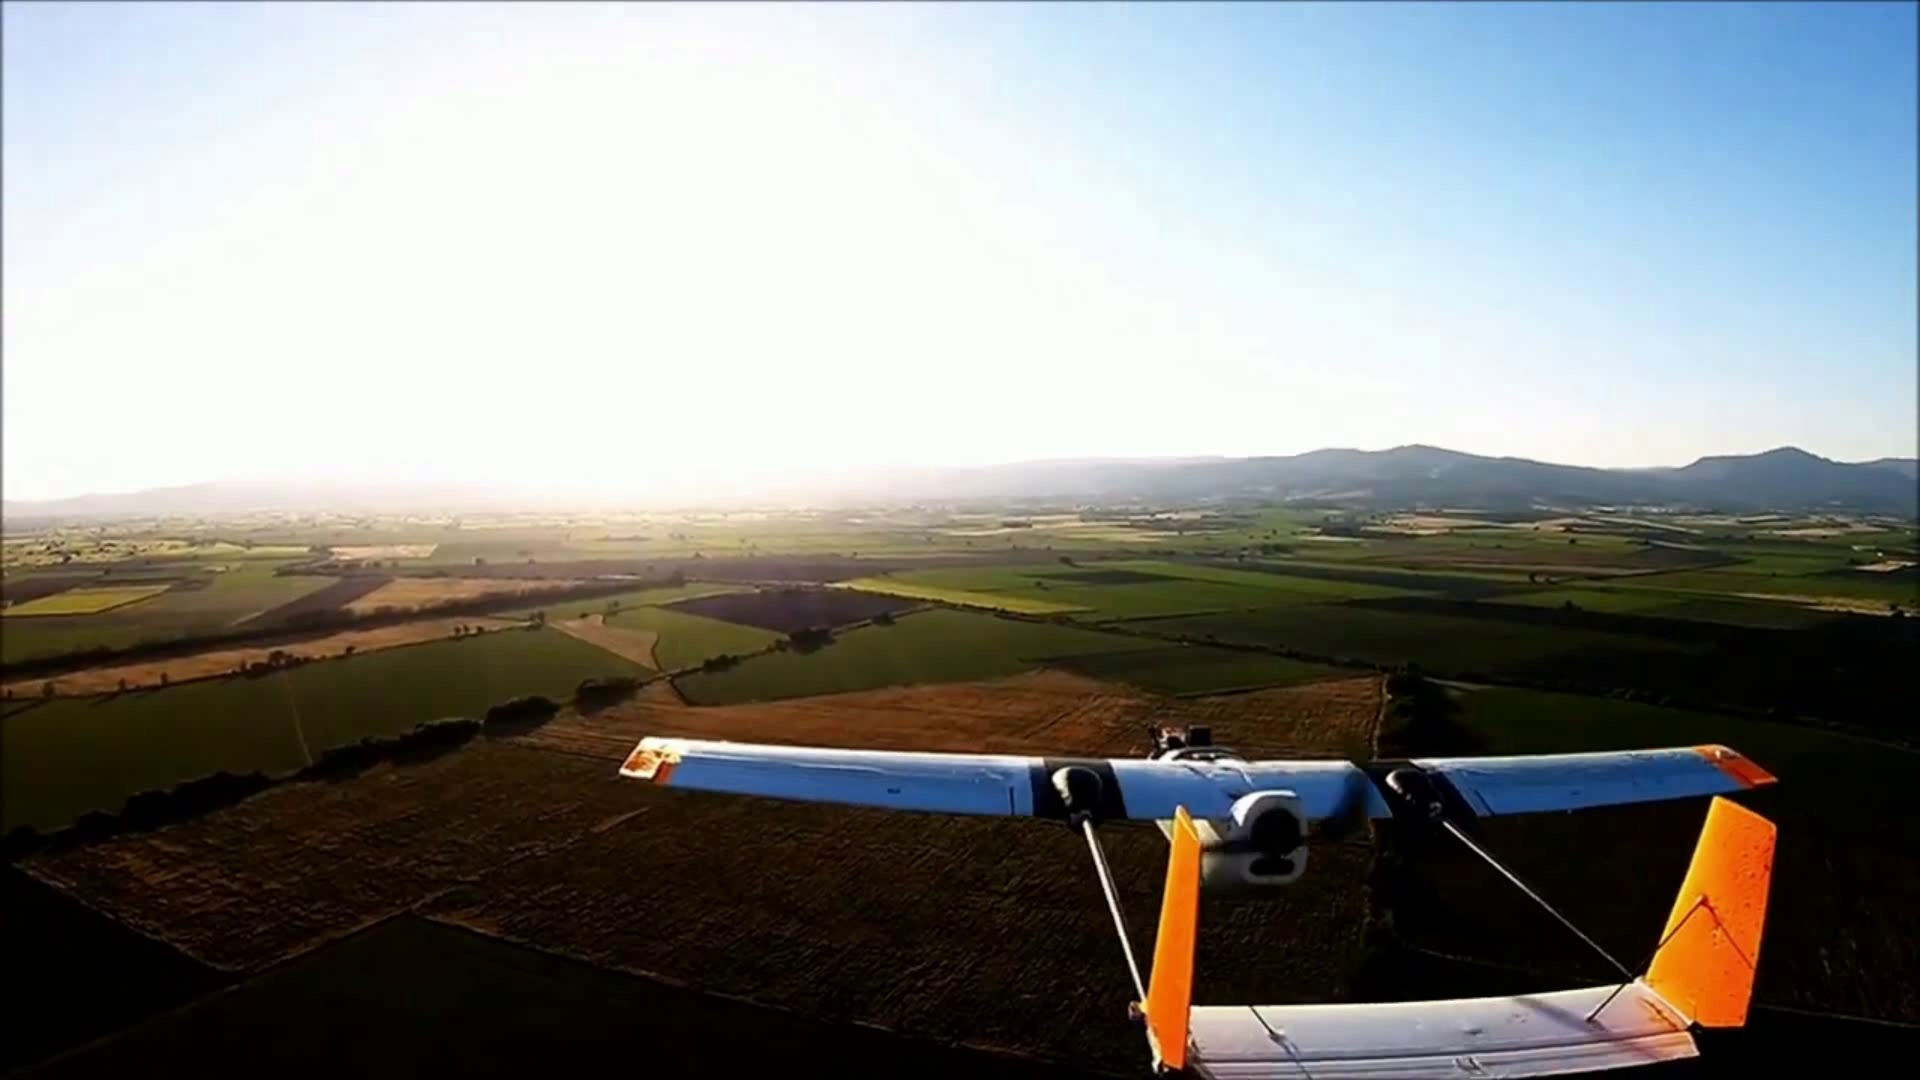airplane: (620, 746, 1782, 1071), (615, 717, 1780, 895)
